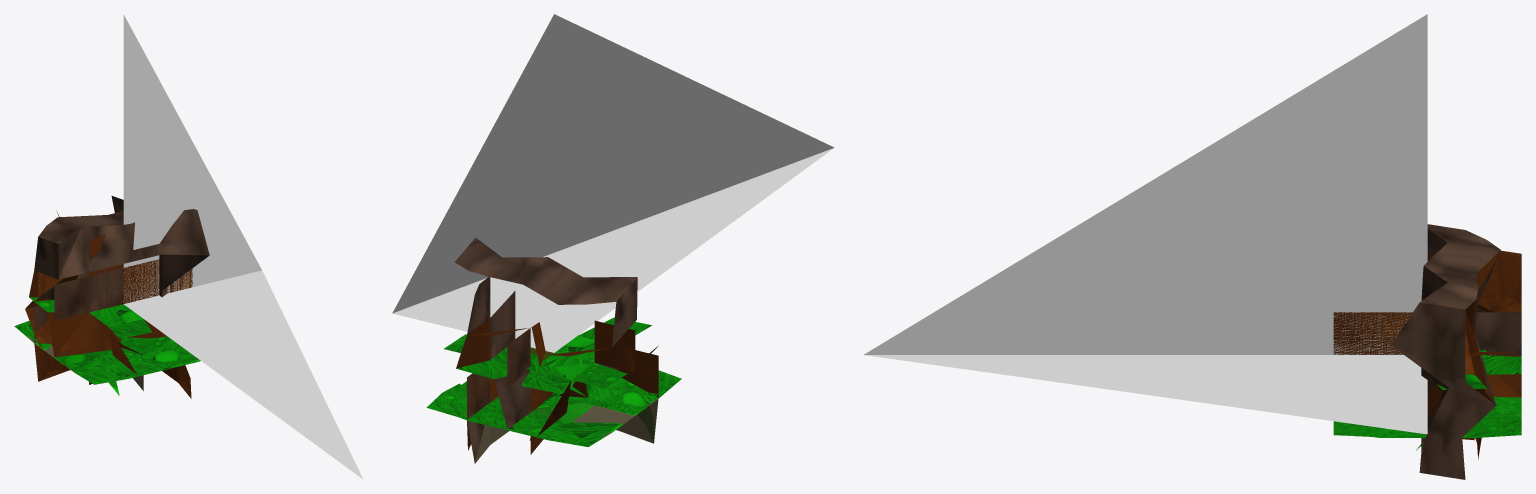
File: tiles.glb
The picture shows the model from 3 angles, left to right: view 1: azimuth 30°, elevation 25°; view 2: azimuth 150°, elevation 25°; view 3: azimuth 270°, elevation 25°; orthographic projection. The views are drawn at different scales.
Visible parts, largest first — view 1: mb_frame, ell_b1h2_b, edge_inner_b4h2_outdoor, tetra_b1h3, edge_inner_b2h4, edge_b1h1_outdoor, ell_inner_b1h4, tetra_b3h1, spike_inner_b3h3, corner_inner_b4h3, ell_inner_b4h1_outdoor, edge_inner_b3h3 (+3 smaller); view 2: mb_frame, ell_b1h2_b, ell_b2h1_b, twist_left_b1h3, twist_left_b3h1_outdoor, edge_inner_b4h2_outdoor, spike_inner_b3h3, tetra_b3h1_outdoor, twist_left_b2h2, corner_b1h0, ell_inner_b4h1_outdoor, twist_left_b3h1 (+6 smaller); view 3: mb_frame, ell_b1h2_b, corner_inner_b3h4, edge_b1h1_outdoor, ell_b1h2_a, ell_inner_b4h1_outdoor, tetra_b1h3, twist_left_b2h2, twist_left_b3h1_outdoor.
Boxes of the visible parts, x1,y1,x2,y2 form: mb_frame: [123, 14, 363, 479]; ell_b1h2_b: [34, 209, 209, 297]; edge_inner_b4h2_outdoor: [54, 313, 198, 384]; tetra_b1h3: [34, 268, 123, 342]; edge_inner_b2h4: [123, 259, 192, 303]; edge_b1h1_outdoor: [25, 210, 78, 370]; ell_inner_b1h4: [34, 276, 88, 381]; tetra_b3h1: [47, 312, 92, 384]; spike_inner_b3h3: [109, 319, 200, 390]; corner_inner_b4h3: [89, 304, 143, 327]; ell_inner_b4h1_outdoor: [55, 313, 147, 356]; edge_inner_b3h3: [89, 268, 123, 312]; mb_frame: [392, 14, 834, 352]; ell_b1h2_b: [454, 237, 637, 463]; ell_b2h1_b: [467, 277, 583, 446]; twist_left_b1h3: [594, 320, 658, 397]; twist_left_b3h1_outdoor: [456, 318, 668, 438]; edge_inner_b4h2_outdoor: [490, 348, 678, 414]; spike_inner_b3h3: [469, 317, 658, 463]; tetra_b3h1_outdoor: [443, 355, 632, 419]; twist_left_b2h2: [467, 329, 530, 450]; corner_b1h0: [532, 422, 620, 446]; ell_inner_b4h1_outdoor: [467, 356, 633, 429]; twist_left_b3h1: [537, 386, 667, 437]; mb_frame: [864, 14, 1427, 434]; ell_b1h2_b: [1391, 224, 1500, 479]; corner_inner_b3h4: [1333, 312, 1412, 354]; edge_b1h1_outdoor: [1477, 250, 1521, 312]; ell_b1h2_a: [1474, 256, 1521, 354]; ell_inner_b4h1_outdoor: [1484, 374, 1521, 417]; tetra_b1h3: [1475, 312, 1521, 354]; twist_left_b2h2: [1381, 337, 1486, 437]; twist_left_b3h1_outdoor: [1463, 302, 1521, 439].
Size of the model in its own units: 1.5 by 2.59 by 3.5.
5 materials, 3 textured.
